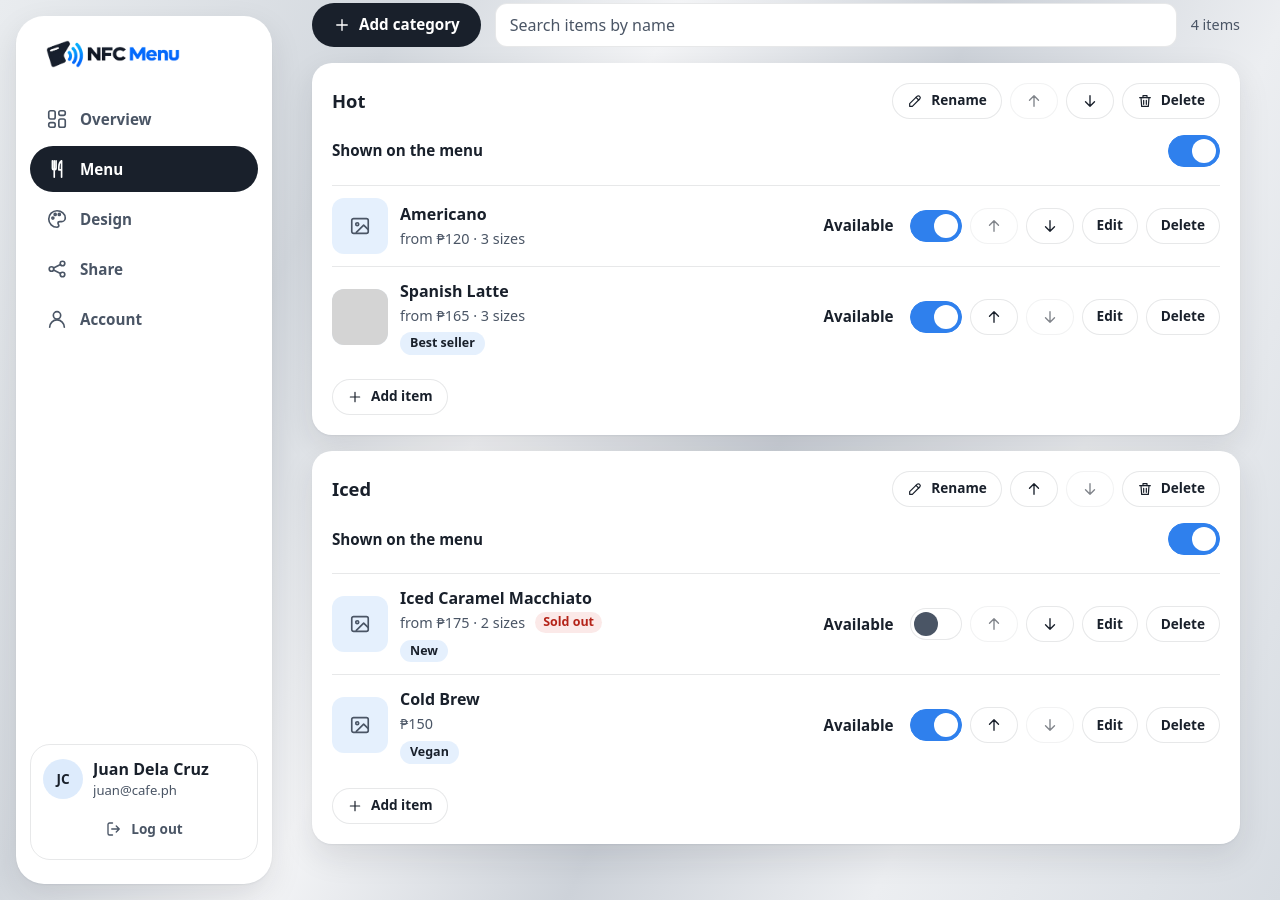
Test: When the owner repository fails: Menu › does not show an old delete failure when the question is opened again after Keep it
(page scrolled)
Click the button "Delete" in the row of "Cold Brew" at {"x": 1183, "y": 725}, box 1146,707 -> 1220,743
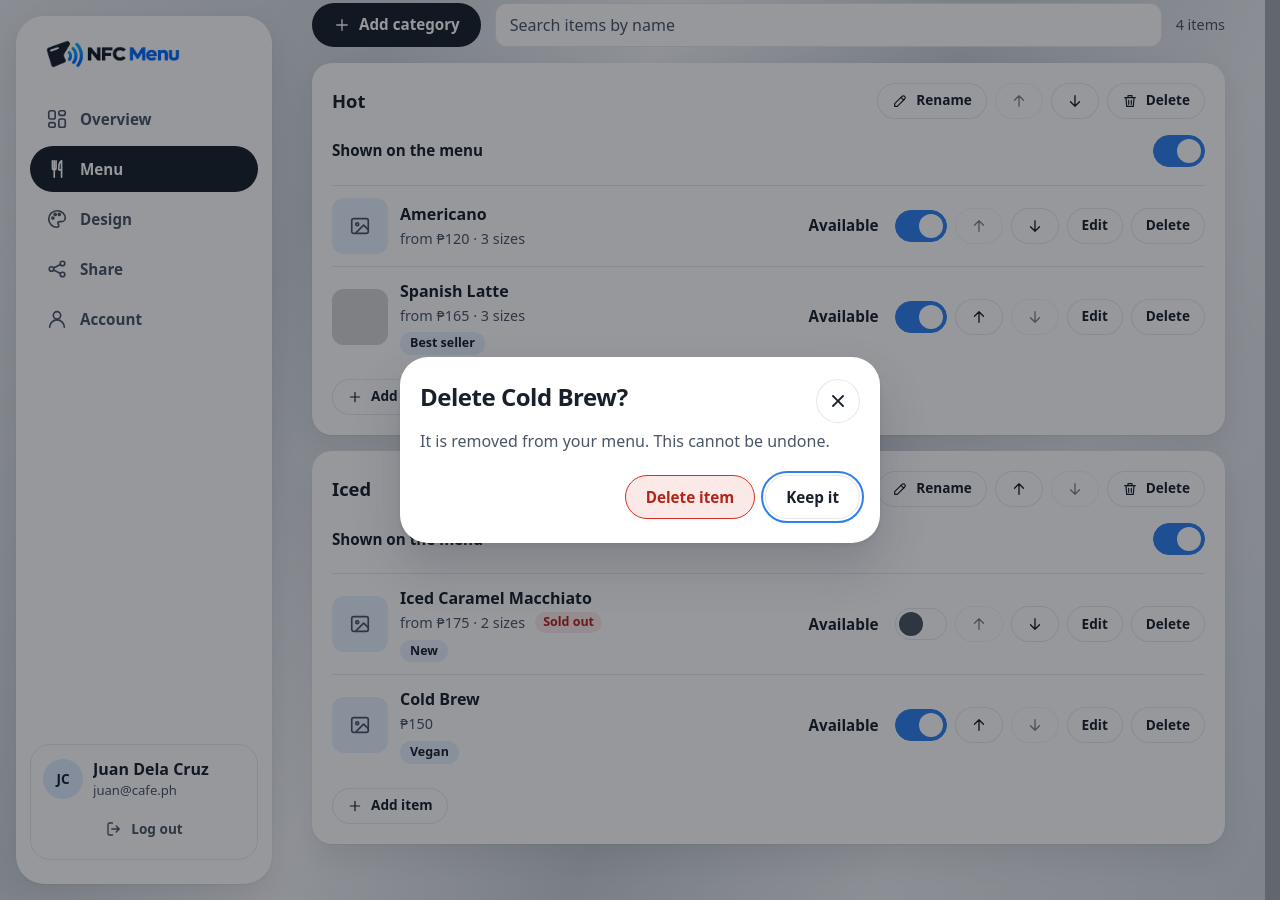
Click the button "Delete item" at {"x": 690, "y": 497}, box 625,475 -> 755,519
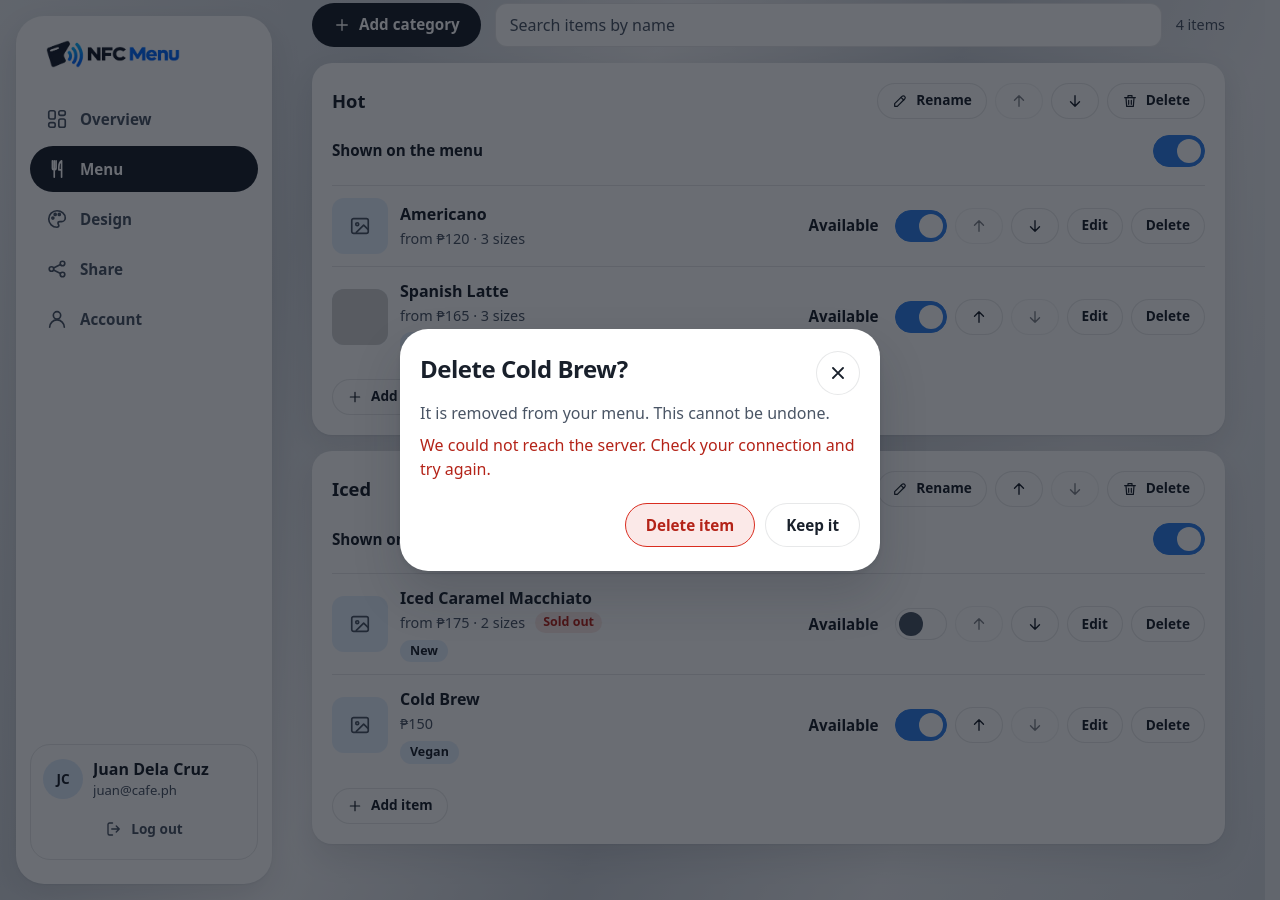
Expected: the text "We could not reach the server. Check your connection and try again." is shown, 420,433 -> 860,481
Click the button "Keep it" at {"x": 813, "y": 525}, box 765,503 -> 860,547
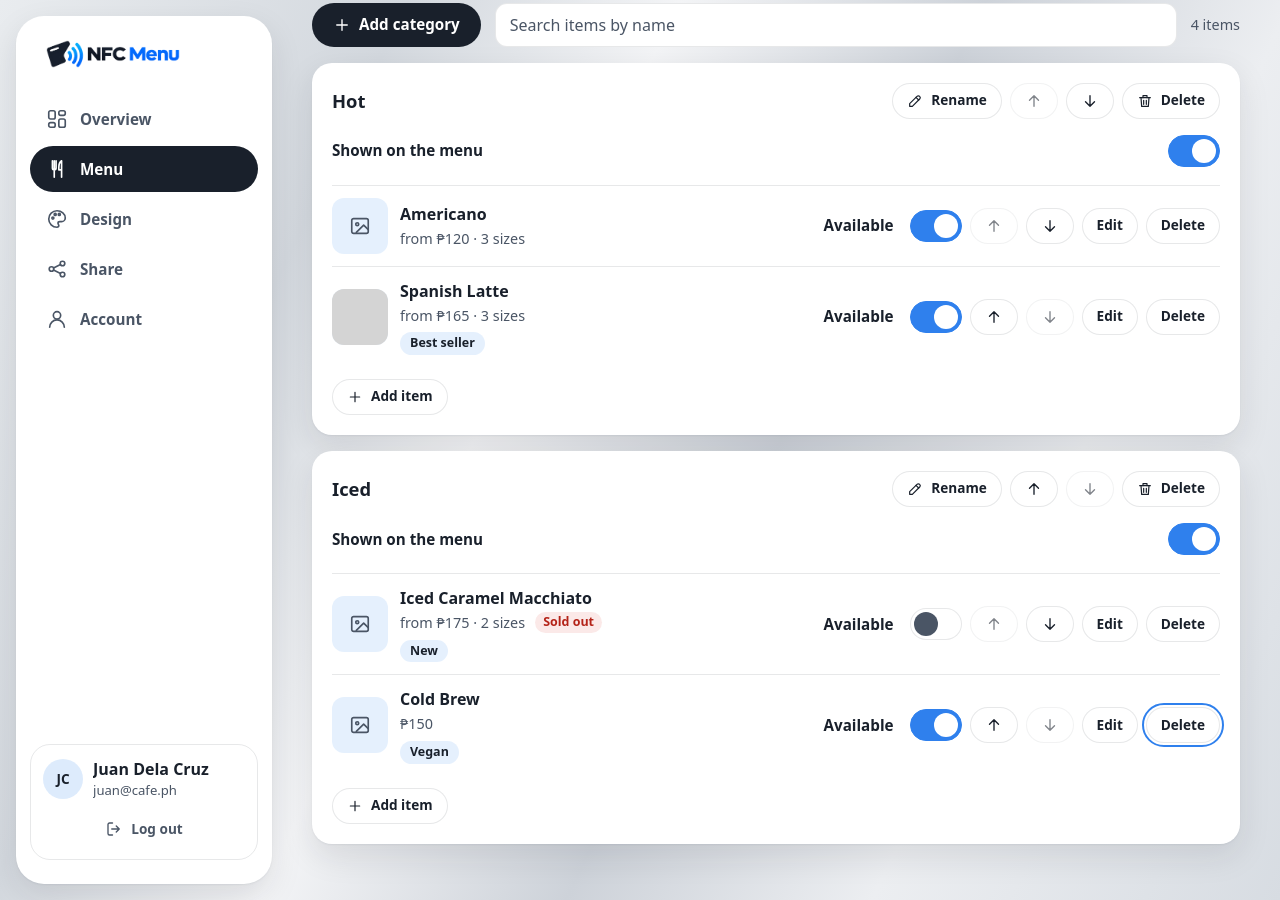
Expected: the dialog is gone
Click the button "Delete" in the row of "Cold Brew" at {"x": 1183, "y": 725}, box 1146,707 -> 1220,743
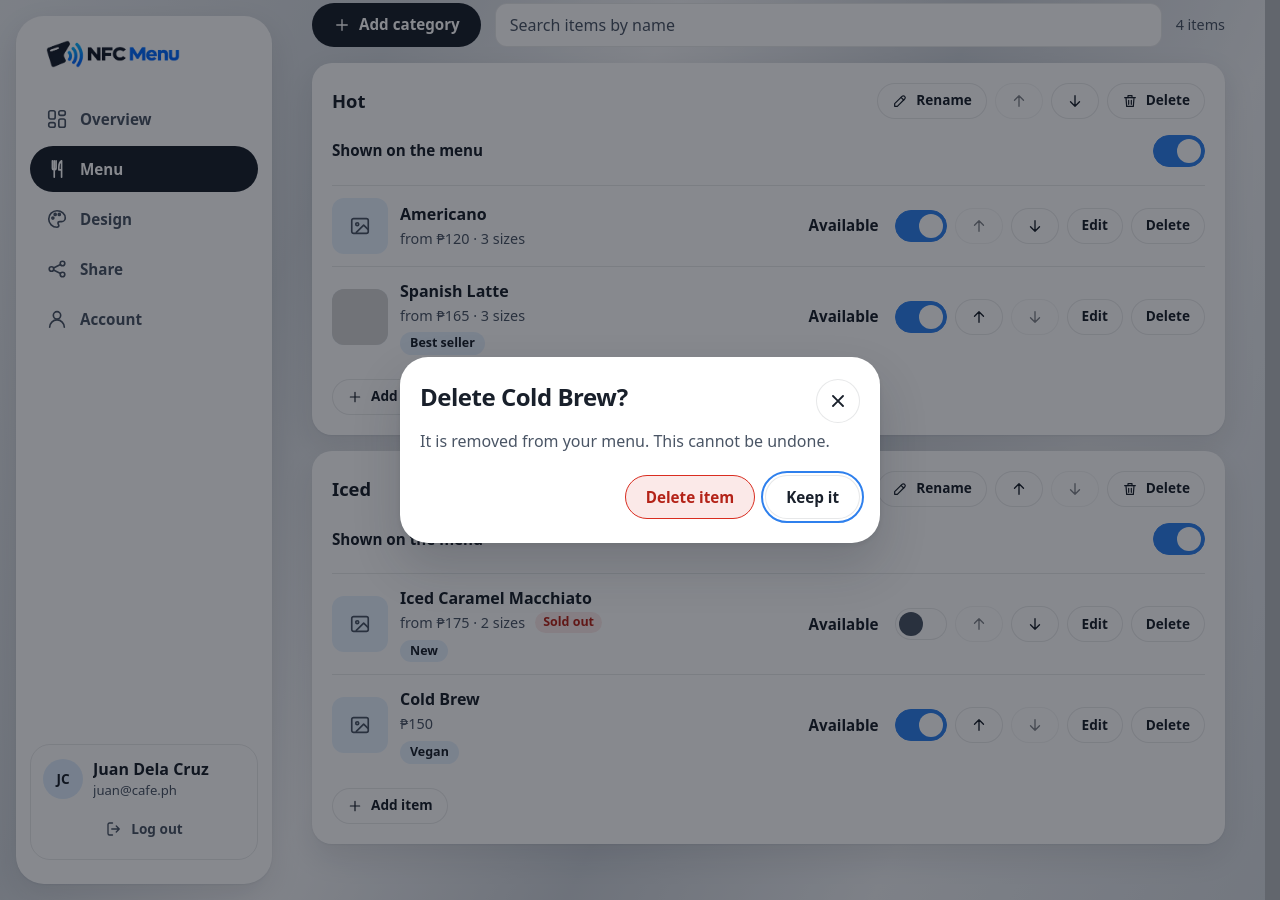
Expected: the text "We could not reach the server. Check your connection and try again." is not shown
Expected: the dialog is shown, 400,357 -> 880,543
